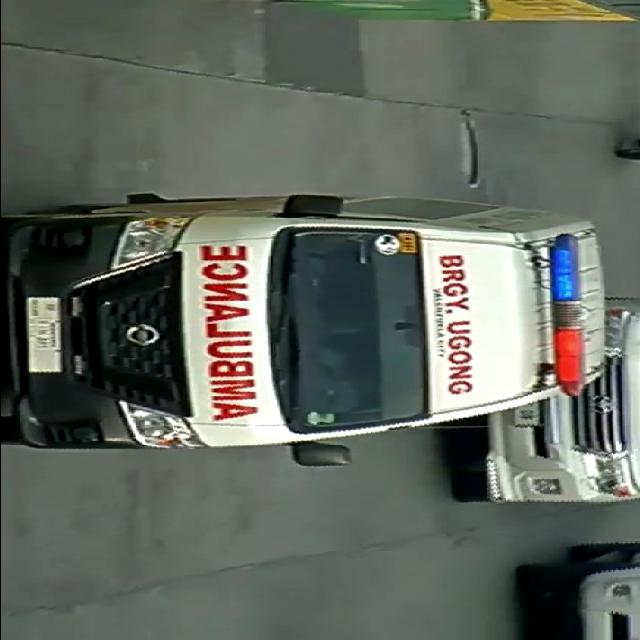emergency: (3, 190, 609, 458)
